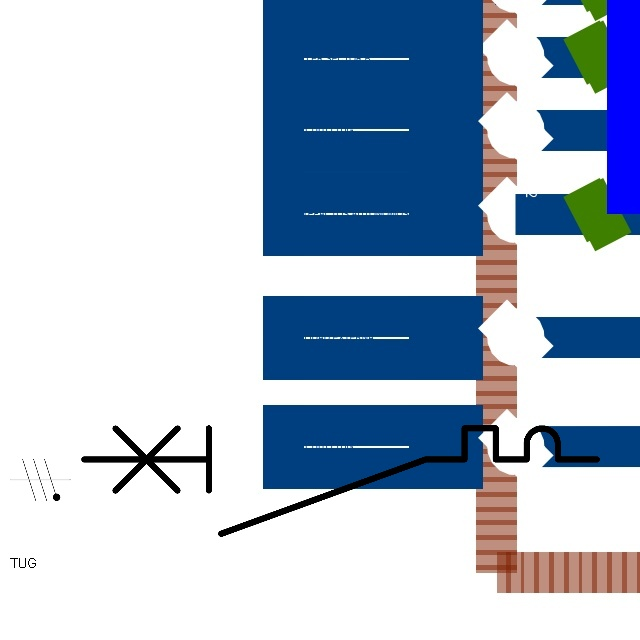interruptor_termomagnetico: (70, 415, 609, 547)
